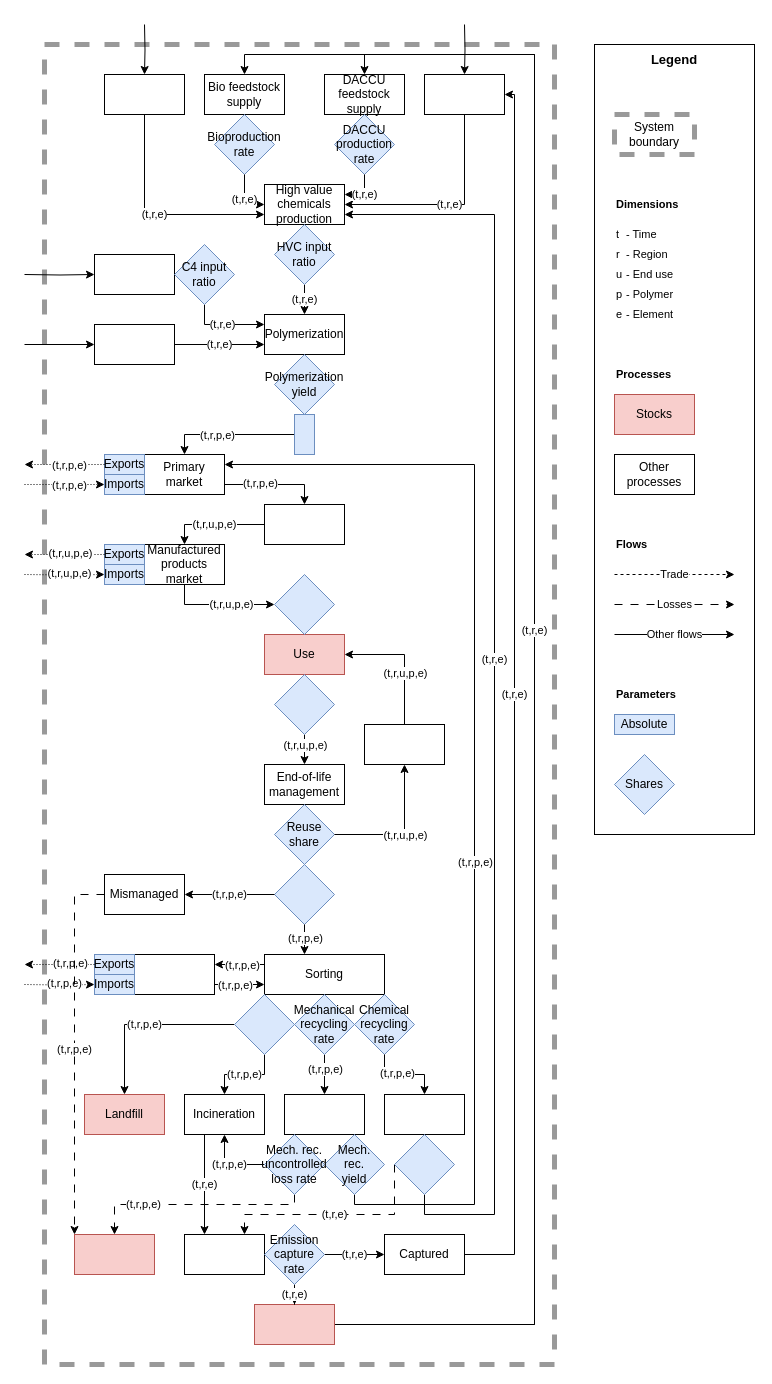
Some shapes in this 772 by 1384 pixel diagram are drawn without their labels. Here are the shapes that lost their labels. From the top down, the centre of each, then its label:
At point (144, 94): "Fossil feedstock supply".
At point (464, 94): "CCU feedstock supply".
At point (134, 274): "C4 production".
At point (134, 344): "Other reactants supply".
At point (304, 434): "Production".
At point (304, 524): "Manufacturing".
At point (304, 604): "End-use and polymer split".
At point (304, 704): "Lifetime".
At point (404, 744): "Reuse".
At point (304, 894): "Collection rate".
At point (174, 974): "Waste market".
At point (264, 1024): "Incineration rate".
At point (324, 1114): "Mechanical recycling".
At point (424, 1114): "Chemical recycling".
At point (424, 1164): "Chemical recycling yield".
At point (114, 1254): "Uncontrolled".
At point (224, 1254): "Emission".
At point (294, 1324): "Atmosphere".
